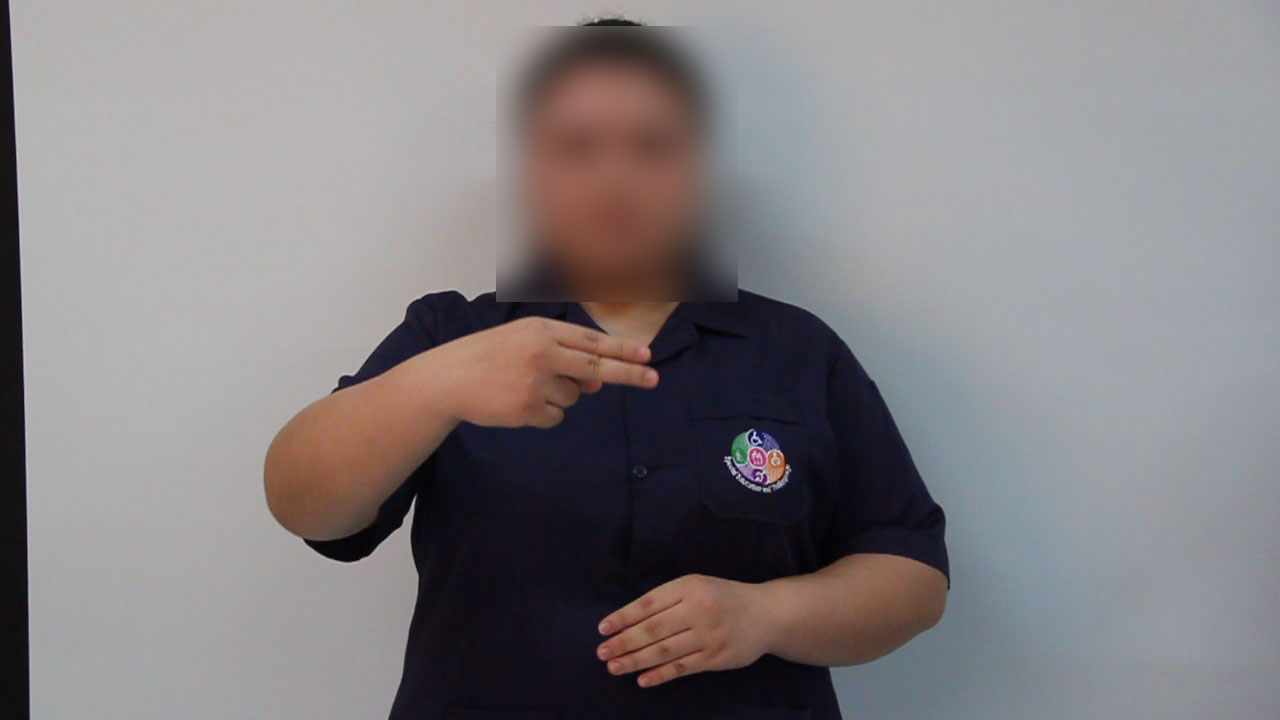hor: (411, 308, 674, 448)
